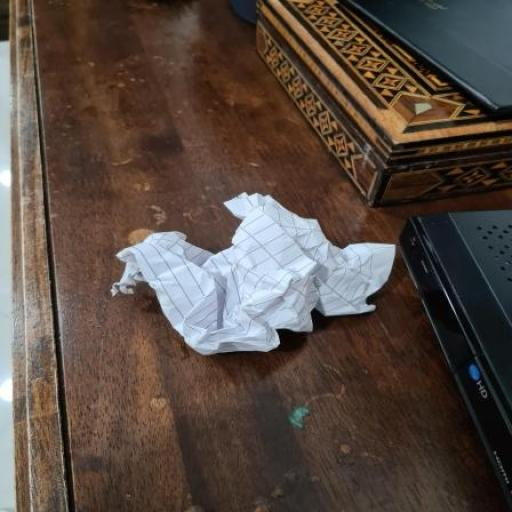paper: (111, 189, 396, 354)
